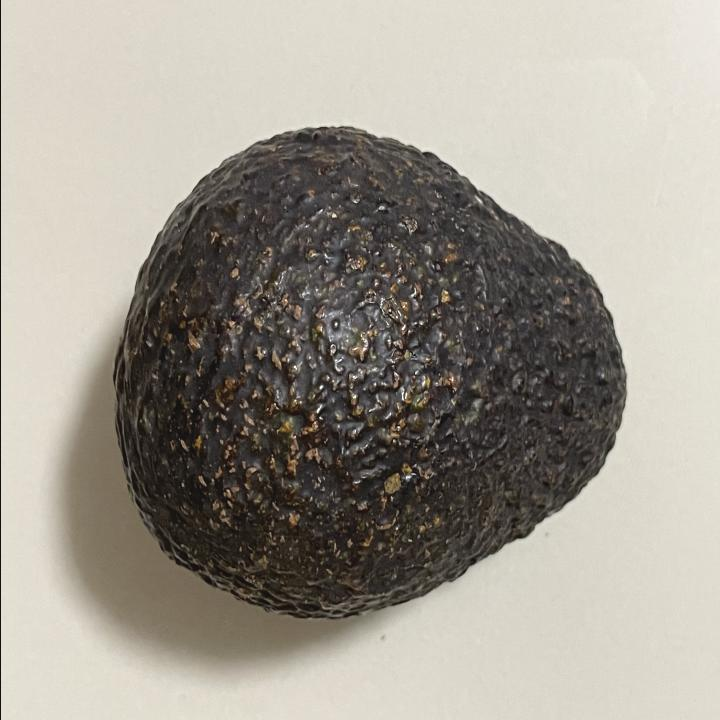Level2: (105, 118, 634, 628)
